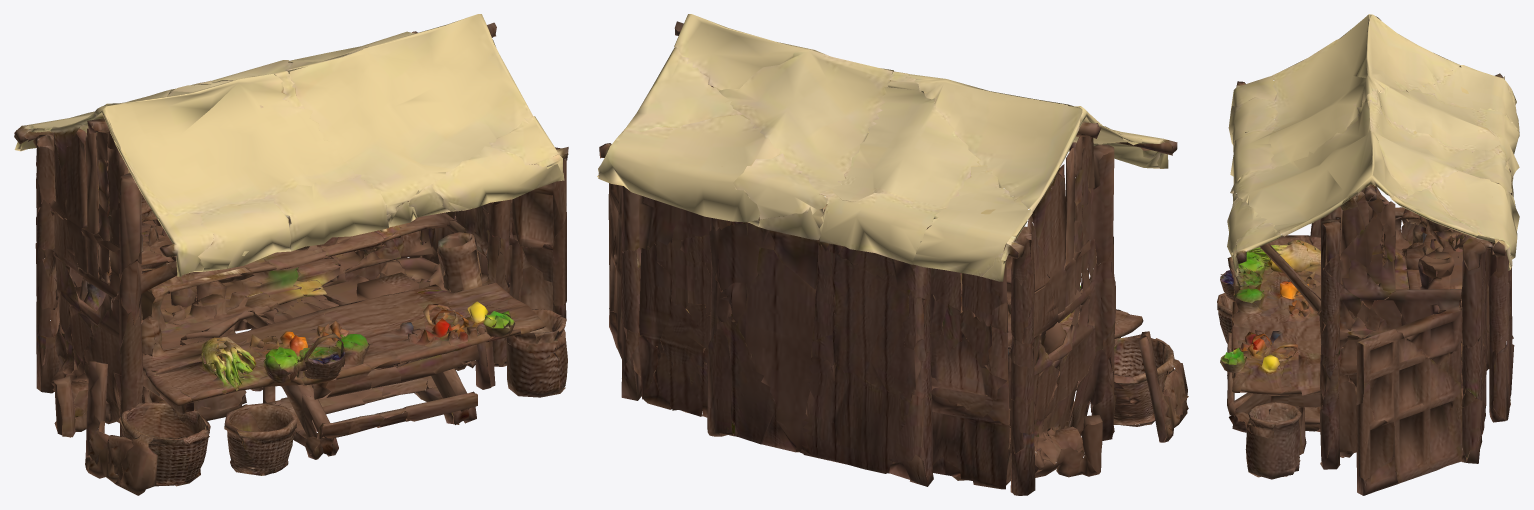
Rendered from market-stall.glb.
3 renders of one model, left to right at view 1: azimuth 30°, elevation 25°; view 2: azimuth 150°, elevation 25°; view 3: azimuth 270°, elevation 25°, orthographic. The views are drawn at different scales.
Parts seen in each view (by area): view 1: Mesh_0; view 2: Mesh_0; view 3: Mesh_0.
Boxes of the visible parts, bbox=[...] form: Mesh_0: bbox=[14, 14, 568, 495]; Mesh_0: bbox=[597, 14, 1188, 495]; Mesh_0: bbox=[1217, 14, 1519, 495].
Bounding box in the file's own units: 1.89 × 1.19 × 1.11.
Materials: 1 (1 with a texture image).
